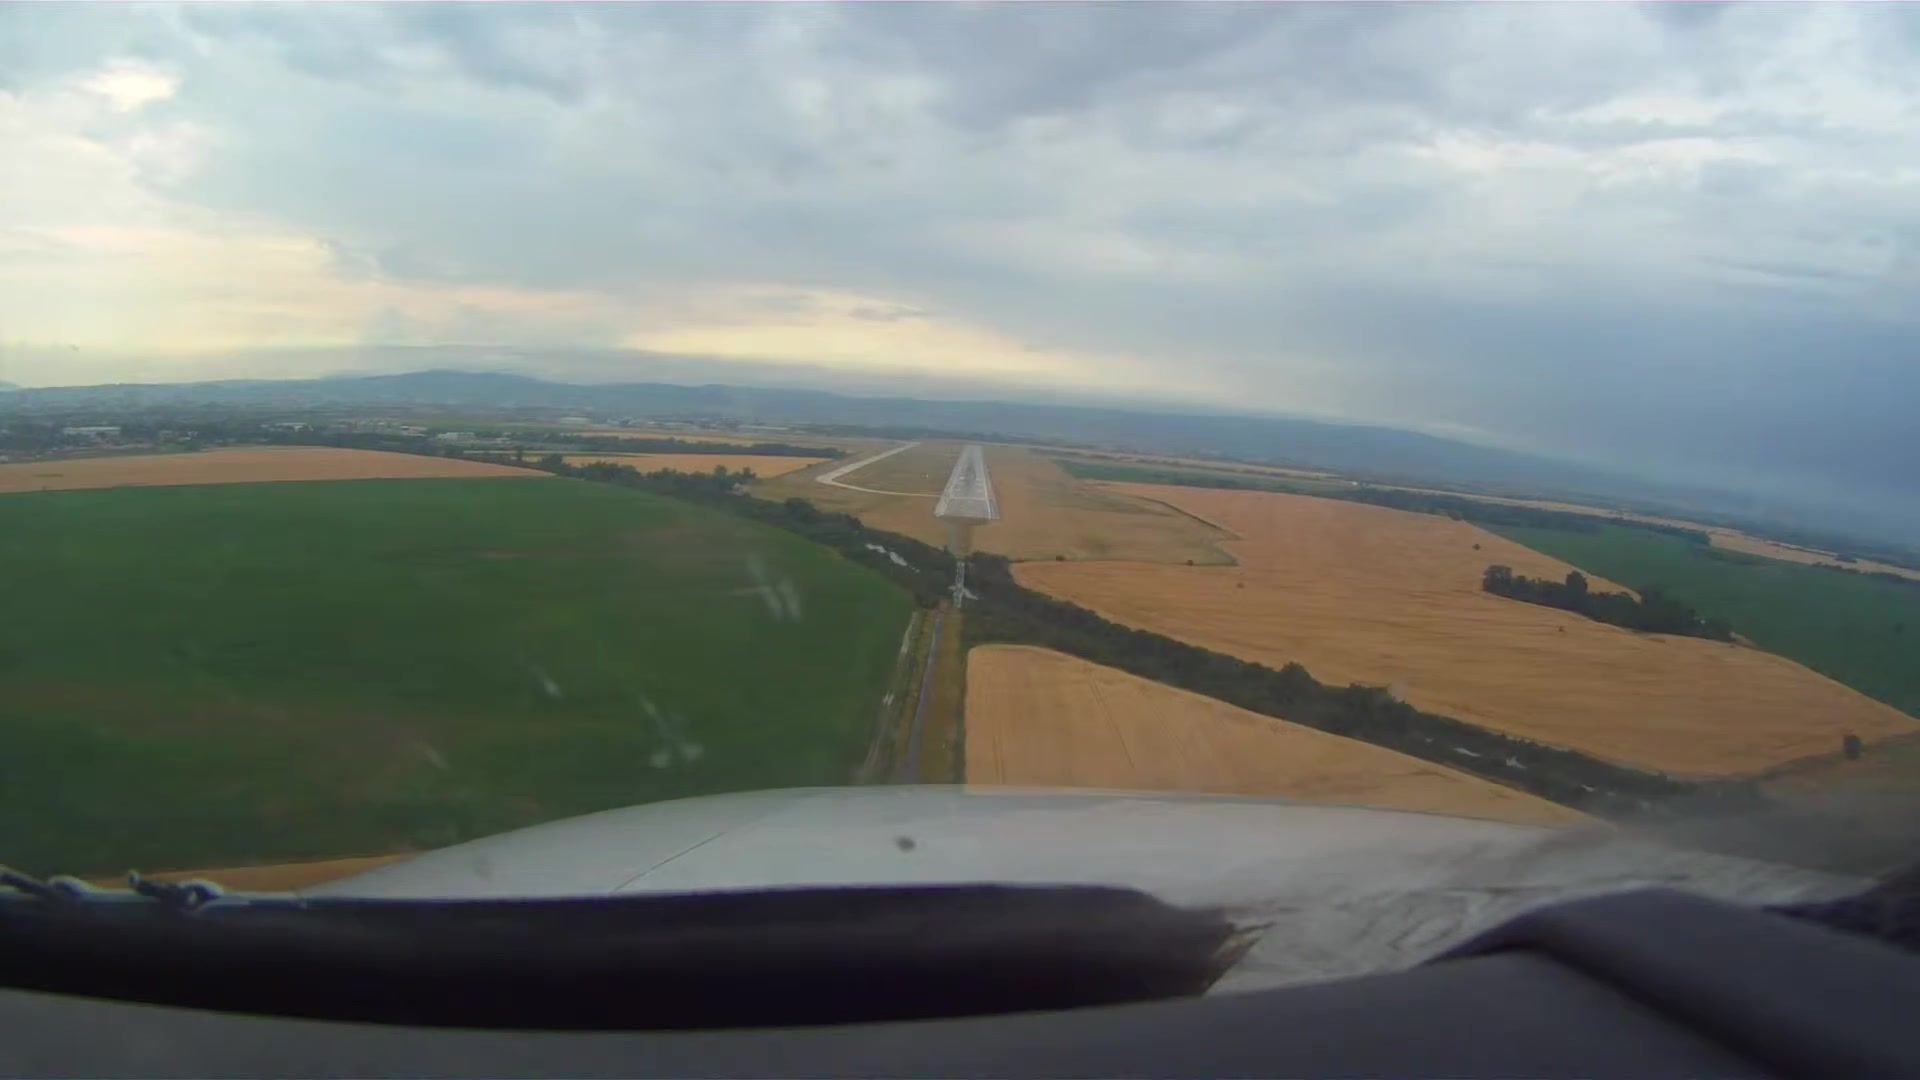entrance: (945, 496, 988, 502)
runway: (932, 446, 994, 517)
